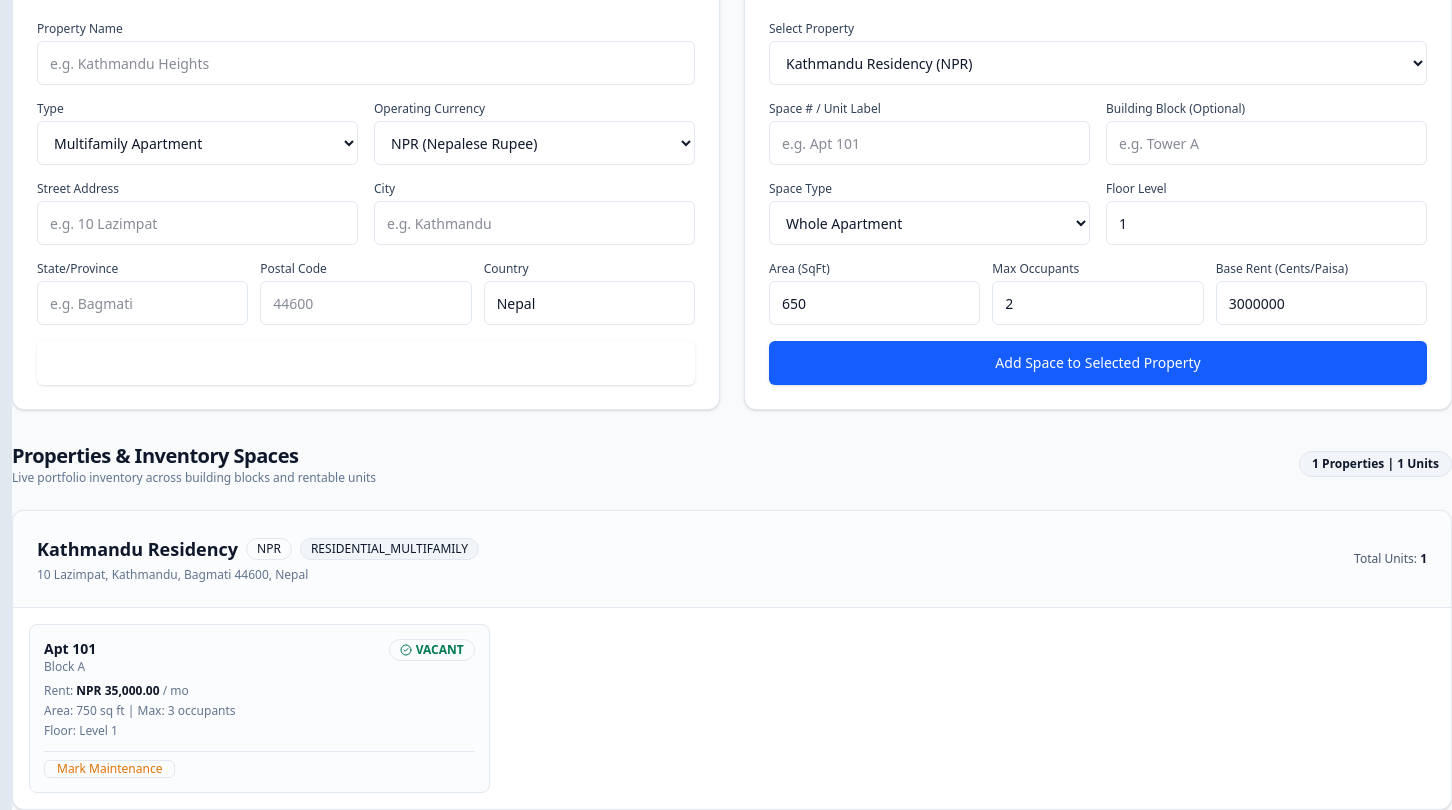
Scenario: HomeComponent Outside-In UI Acceptance Test › should allow landlord to change the status of a rentable space via API
(page scrolled)
expect the text "Apt 101" is shown: met, box [44,639,96,659]
Click the button "Mark Maintenance". click: (110, 769)
box: [44,760,175,778]
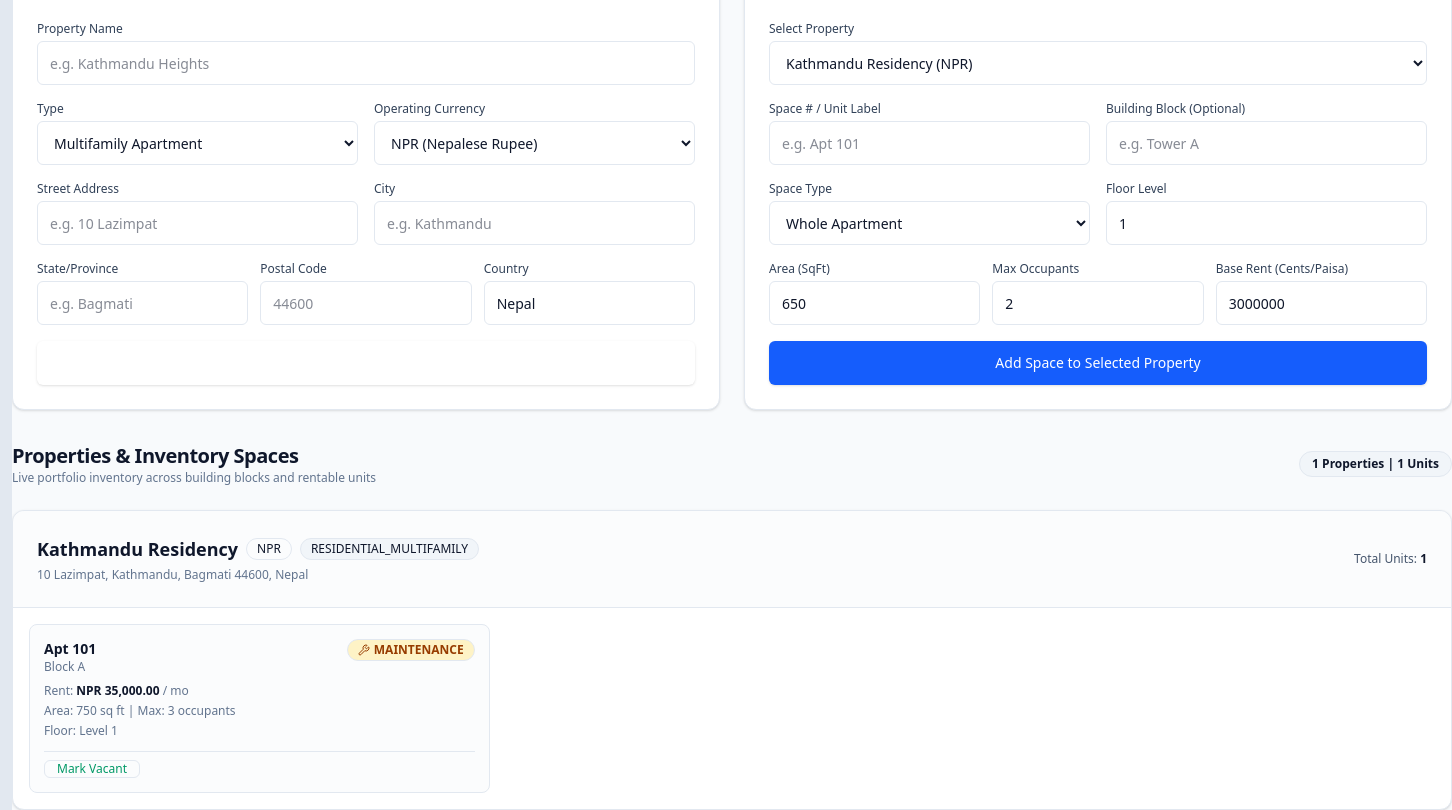
expect the text "MAINTENANCE" is shown: met, box [347,639,475,661]
